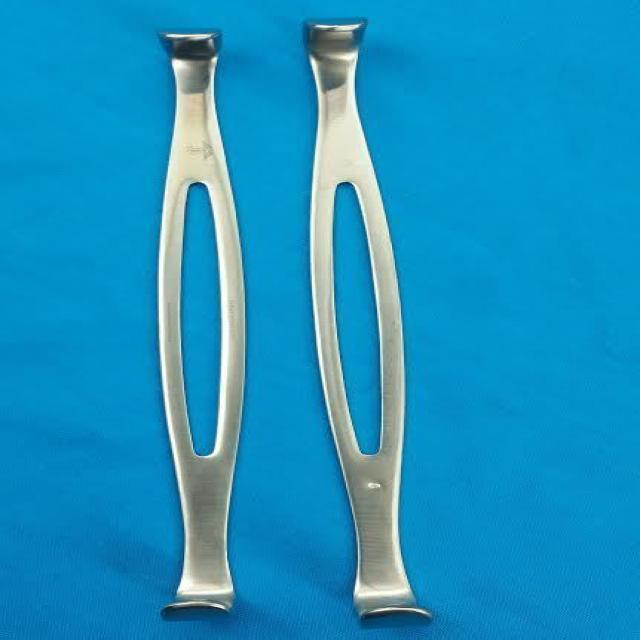Army Navy Retractor: (285, 15, 459, 633), (138, 20, 266, 627)
